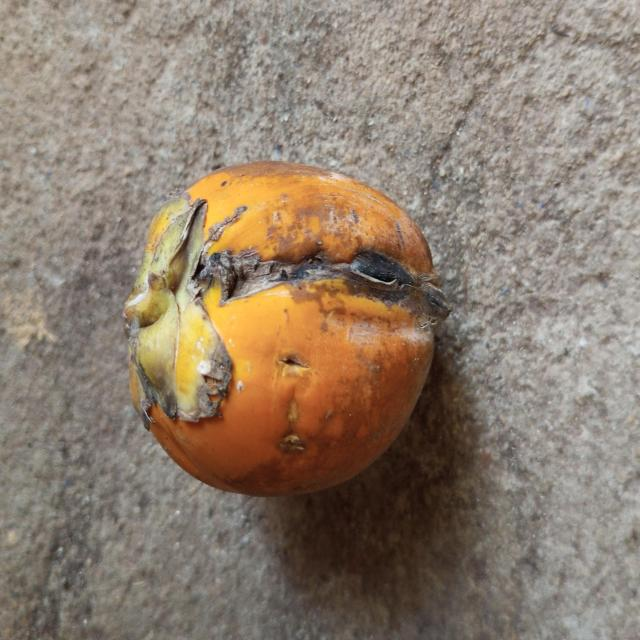damaged: (124, 162, 450, 496)
